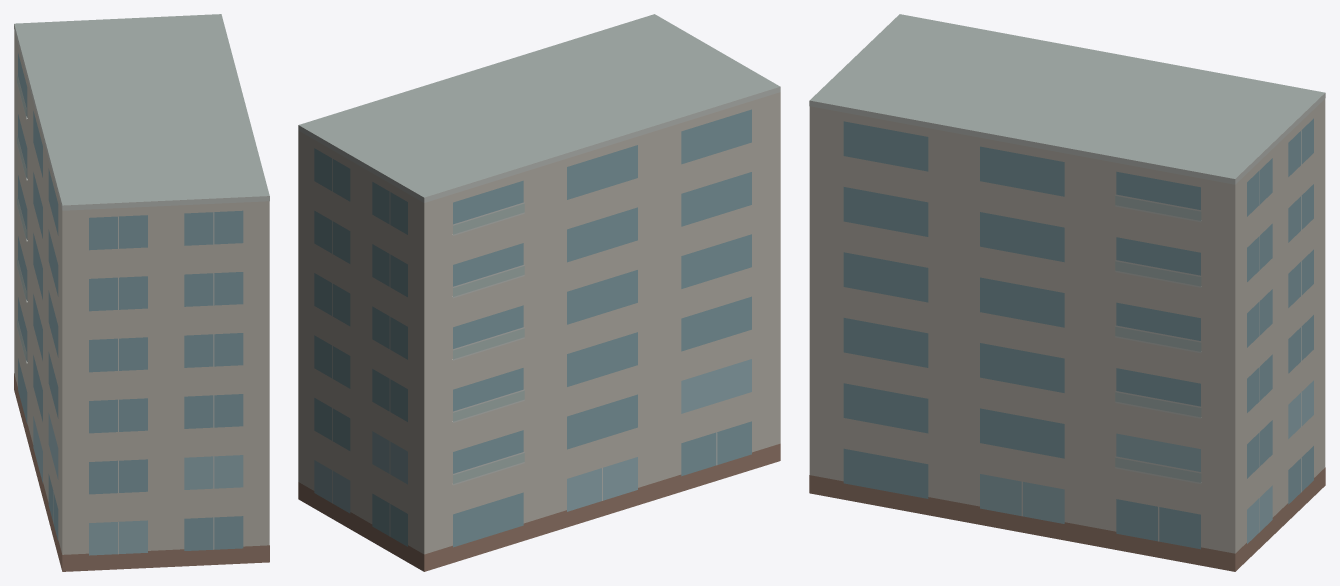
The model's file is survey-upis-32956762.glb.
The picture shows the model from 3 angles, left to right: view 1: azimuth 30°, elevation 25°; view 2: azimuth 150°, elevation 25°; view 3: azimuth 270°, elevation 25°; orthographic projection. The views are drawn at different scales.
Parts seen in each view (by area): view 1: survey-upis-32956762.tmp; view 2: survey-upis-32956762.tmp; view 3: survey-upis-32956762.tmp.
Part boxes in pixels (x1,y1,x2,y2): survey-upis-32956762.tmp: (14, 14, 269, 571); survey-upis-32956762.tmp: (298, 14, 780, 571); survey-upis-32956762.tmp: (809, 14, 1325, 571).
Bounding box in the file's own units: 15.24 × 16.9 × 20.13.
